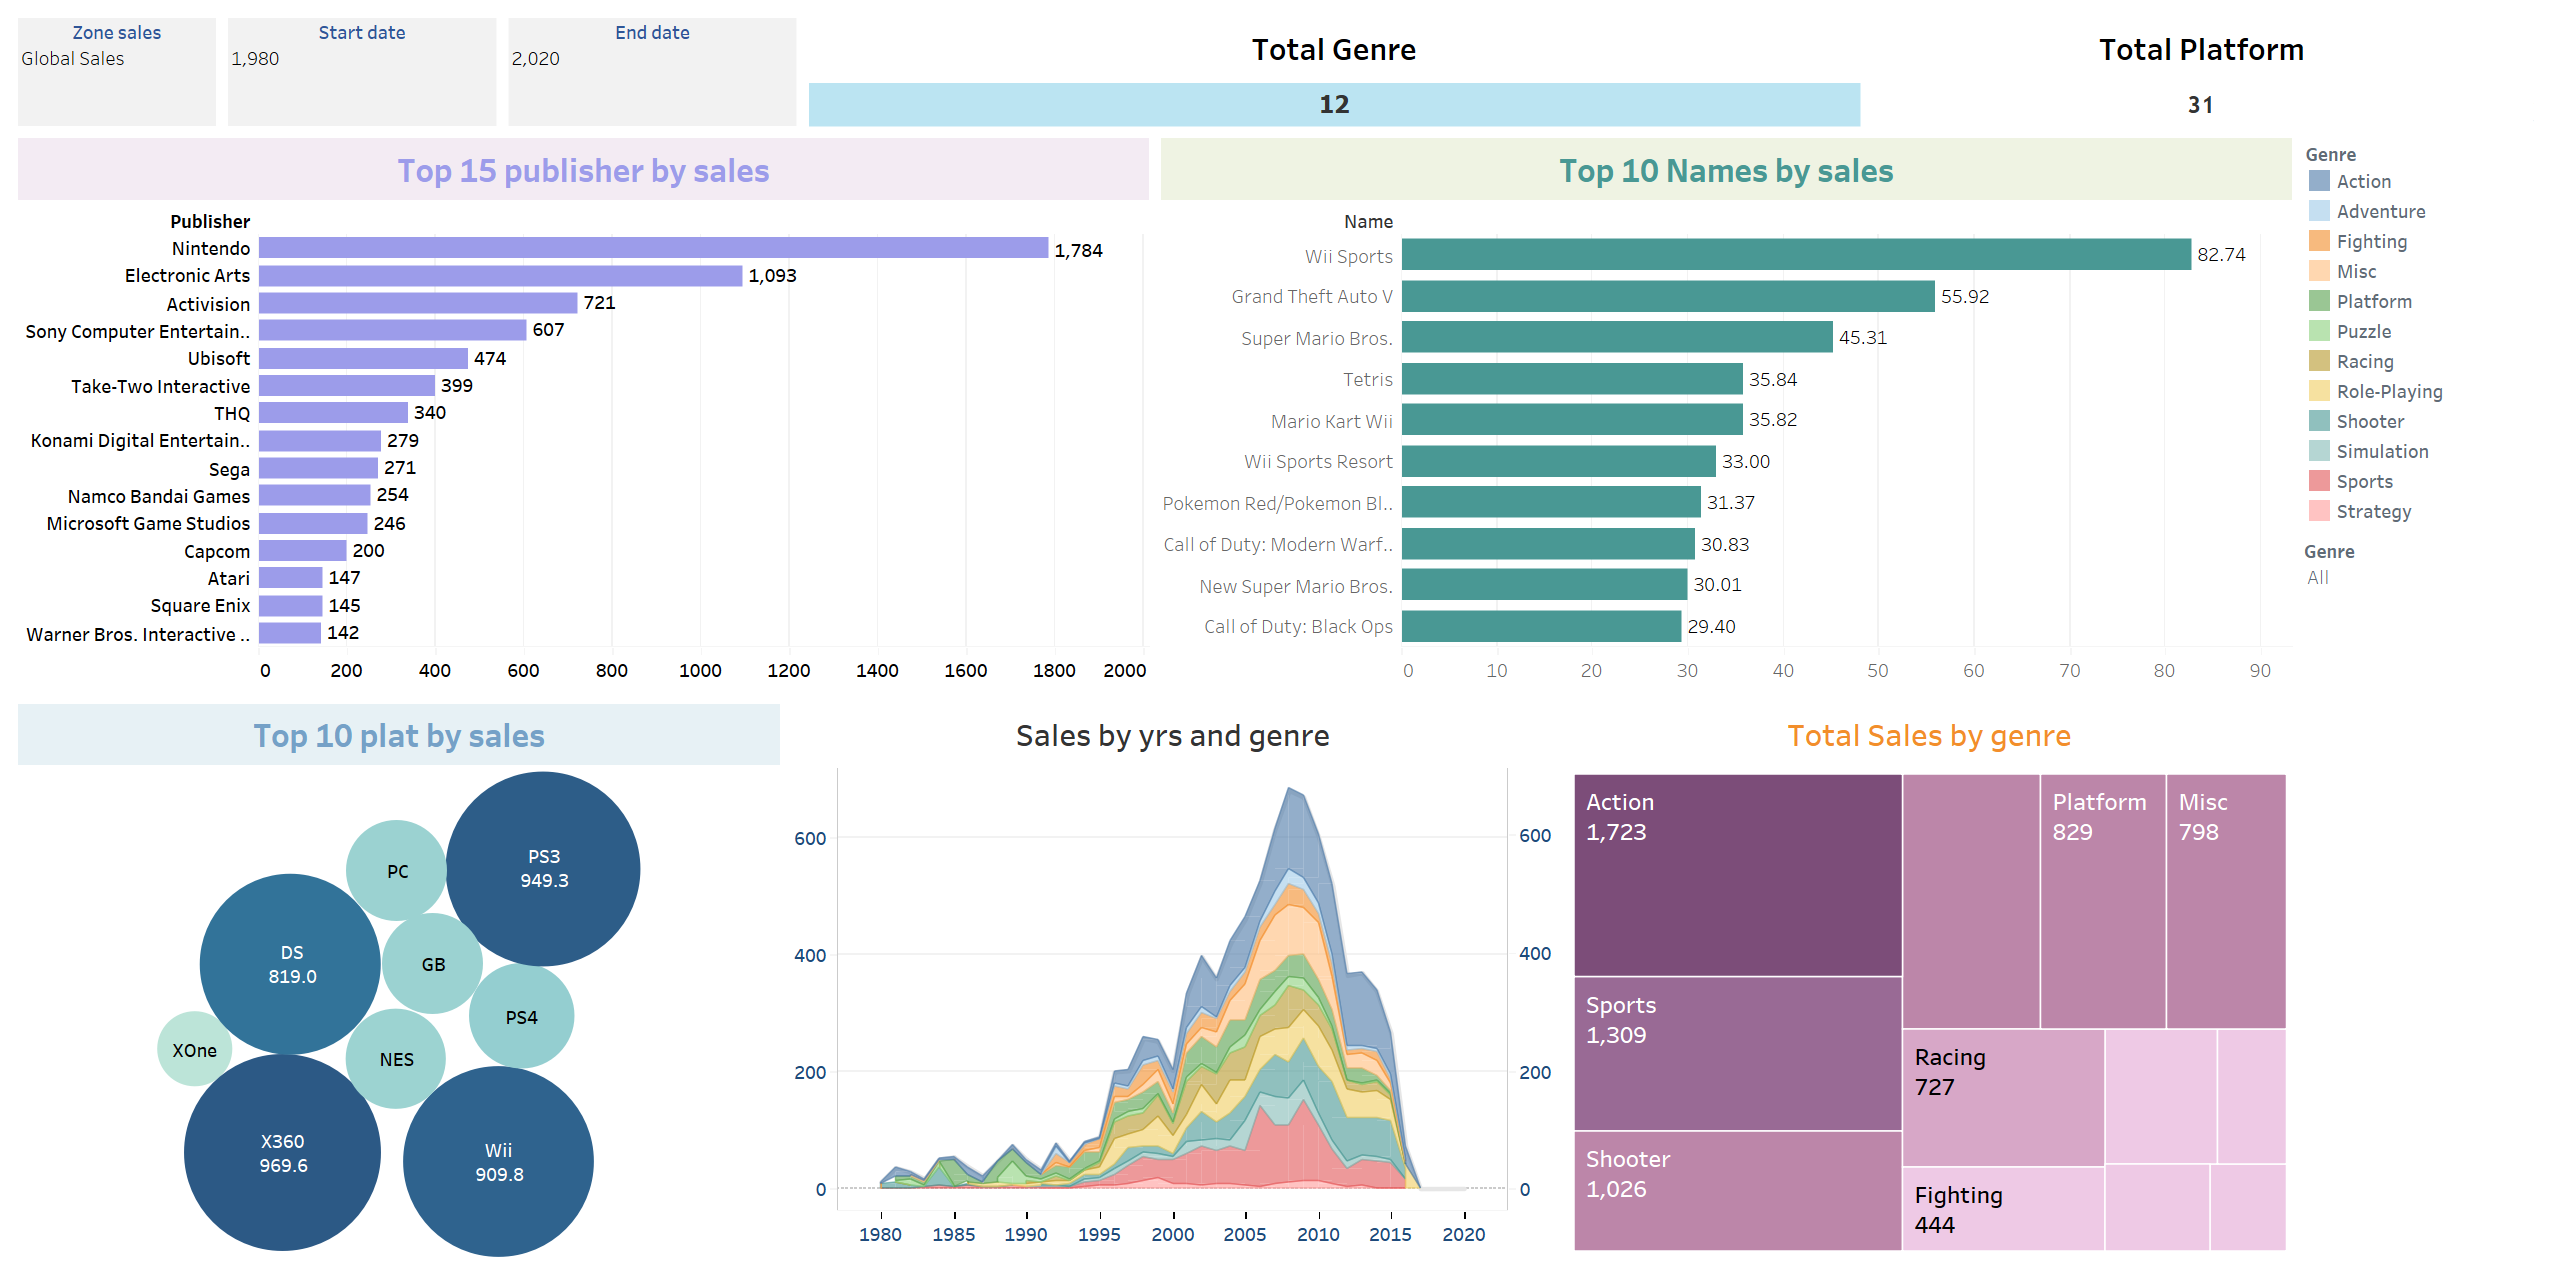

The page's visual inventory and layout, read from the dashboard file:
{"tool":"tableau","page":{"name":"Dashboard 1","canvas":[1200,800],"ordinal":0},"visuals":[{"type":"parameter","param":"[Parameters].[Parameter 1]","box":[8,8,140,75]},{"type":"parameter","param":"[Parameters].[Parameter 2]","box":[148,8,187,75]},{"type":"parameter","param":"[Parameters].[Parameter 3]","box":[335,8,200,75]},{"type":"worksheet","title":"Total Genre","mark":"Automatic","box":[535,8,342,75]},{"type":"worksheet","title":"Total Platform","mark":"Automatic","box":[877,8,315,75]},{"type":"worksheet","title":"Top 15 publisher by sales ","mark":"Automatic","rows":["Publisher"],"cols":["Calculation_1857171935091798016"],"box":[8,83,512,354.5]},{"type":"worksheet","title":"Top 10 Names by sales","mark":"Automatic","rows":["Name"],"cols":["Calculation_1857171935091798016"],"box":[520,83,512,354.5]},{"type":"legend","title":"Sales by yrs and genre","param":"[federated.1bwugnw06i4f3g106c6xg1ebwlkk].[none:Genre:nk]","box":[1032,83,160,266]},{"type":"filter","title":"Sales by yrs and genre","param":"[federated.1bwugnw06i4f3g106c6xg1ebwlkk].[none:Genre:nk]","box":[1032,349,160,52]},{"type":"worksheet","title":"Top 10 plat by sales ","mark":"Circle","box":[8,437.5,347,354.5]},{"type":"worksheet","title":"Sales by yrs and genre","mark":"Automatic","rows":["Calculation_1857171935091798016","Calculation_1857171935091798016"],"cols":["Year"],"box":[355,437.5,347,354.5]},{"type":"worksheet","title":"Total Sales by genre","mark":"Automatic","box":[702,437.5,330,354.5]}]}

Visuals, with their boxes on the page's 1200x800 design canvas (x1, y1, x2, y2). These are canvas units, not pixel positions in the 2550x1275 screenshot, which may show the page scaled, cropped or inside an application window:
parameter: bbox=[8, 8, 148, 83]
parameter: bbox=[148, 8, 335, 83]
parameter: bbox=[335, 8, 535, 83]
"Total Genre" worksheet: bbox=[535, 8, 877, 83]
"Total Platform" worksheet: bbox=[877, 8, 1192, 83]
"Top 15 publisher by sales " worksheet: bbox=[8, 83, 520, 438]
"Top 10 Names by sales" worksheet: bbox=[520, 83, 1032, 438]
"Sales by yrs and genre" legend: bbox=[1032, 83, 1192, 349]
"Sales by yrs and genre" filter: bbox=[1032, 349, 1192, 401]
"Top 10 plat by sales " worksheet (Circle marks): bbox=[8, 438, 355, 792]
"Sales by yrs and genre" worksheet: bbox=[355, 438, 702, 792]
"Total Sales by genre" worksheet: bbox=[702, 438, 1032, 792]
